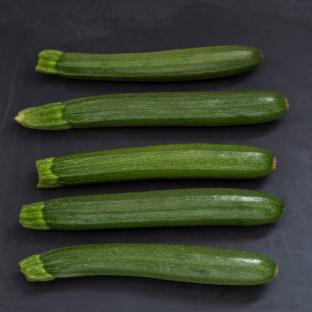Zucchini: (20, 189, 284, 229), (20, 244, 277, 285), (37, 144, 275, 188), (15, 91, 288, 129), (36, 46, 262, 81)
